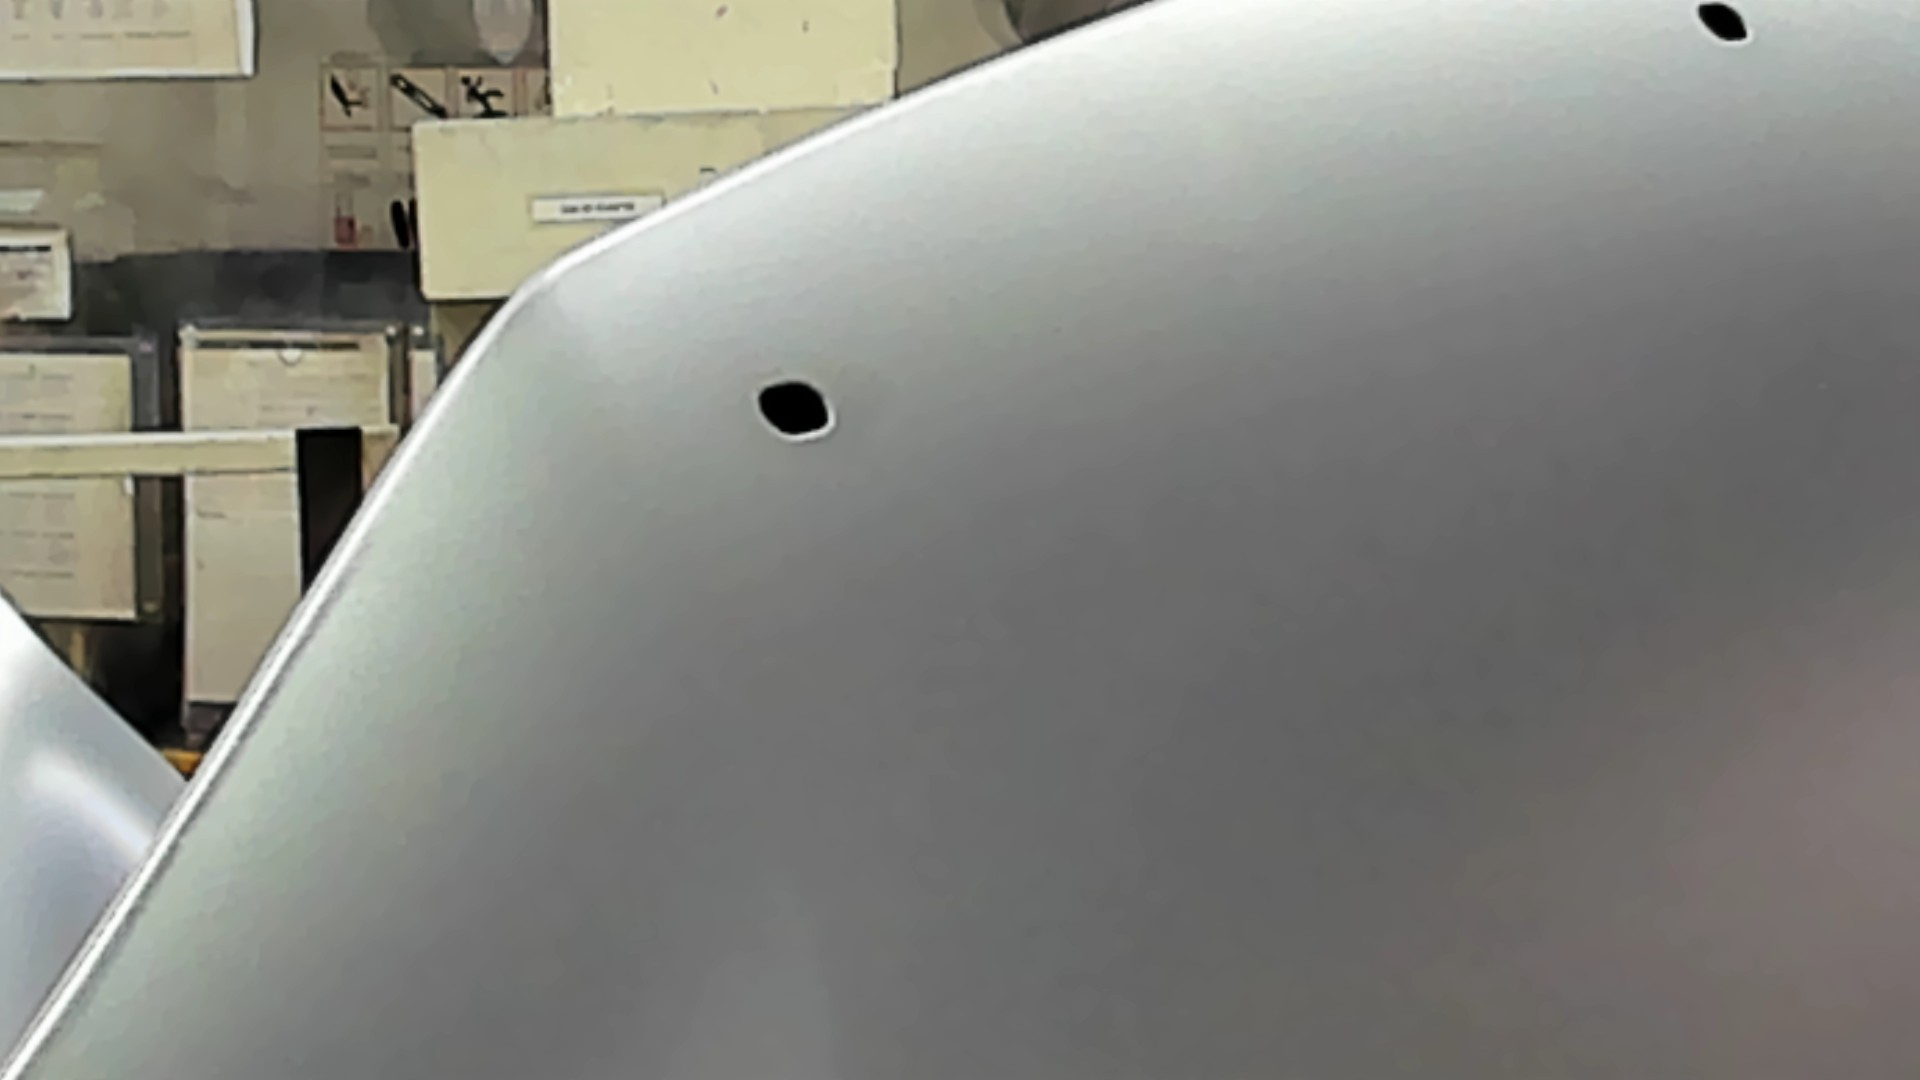amorfo: (752, 372, 845, 448), (1692, 1, 1754, 54)
capo: (924, 113, 1920, 1080)
